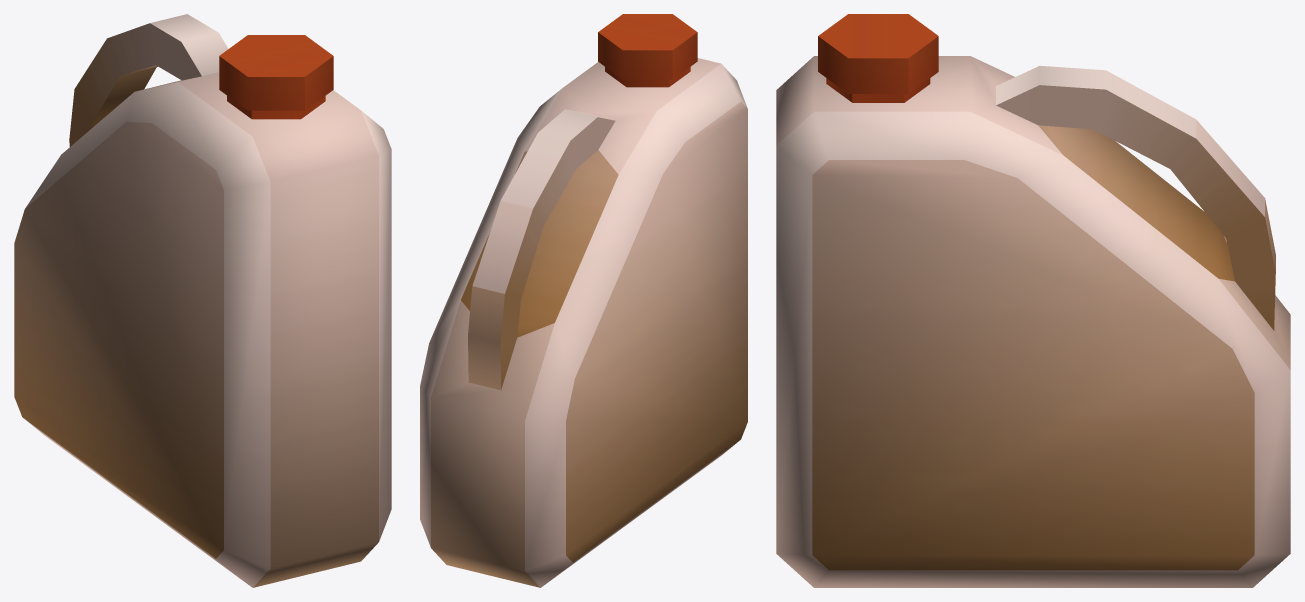
File: SM_PlasticCan_02.fbx
3 renders of one model, left to right at view 1: azimuth 30°, elevation 25°; view 2: azimuth 150°, elevation 25°; view 3: azimuth 270°, elevation 25°, orthographic. The views are drawn at different scales.
Parts seen in each view (by area): view 1: SM_PlasticCan_02; view 2: SM_PlasticCan_02; view 3: SM_PlasticCan_02.
Boxes of the visible parts, bbox=[...] form: SM_PlasticCan_02: bbox=[14, 14, 391, 587]; SM_PlasticCan_02: bbox=[420, 14, 747, 587]; SM_PlasticCan_02: bbox=[776, 14, 1290, 587].
Size of the model in its own units: 0.1651 by 0.467 by 0.4156.
